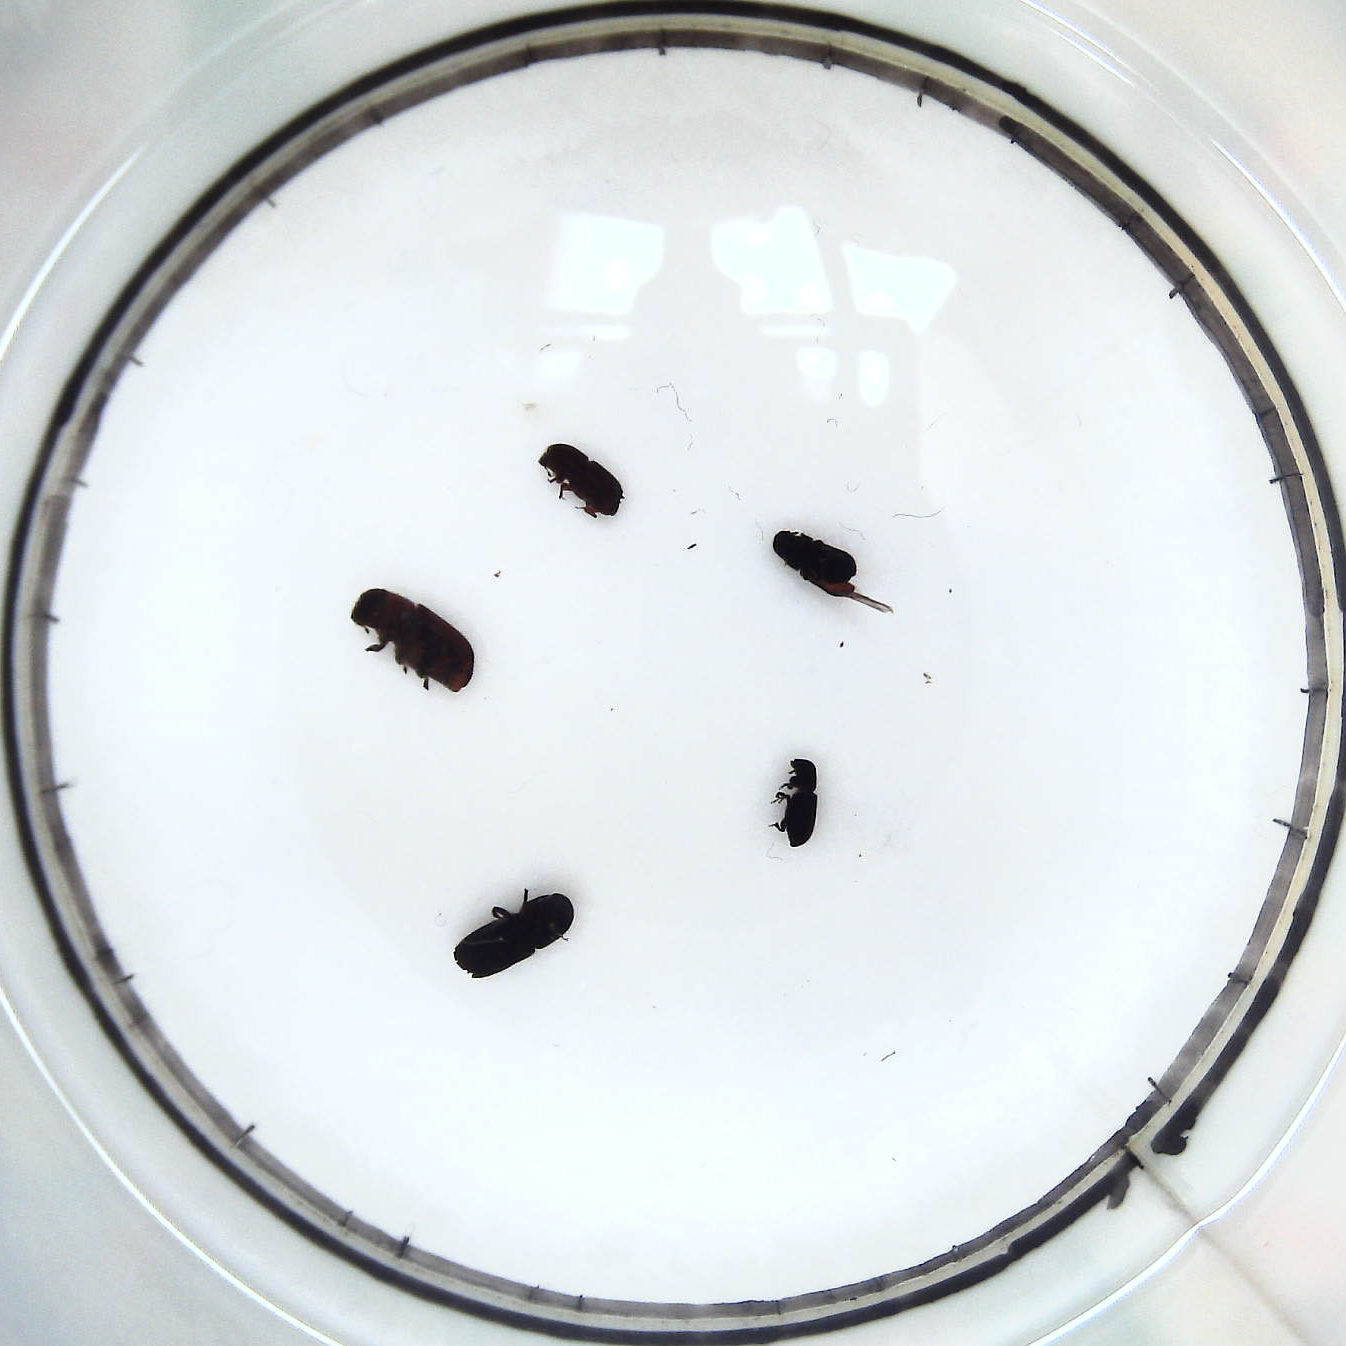Boerner: (451, 887, 578, 985)
Leconte: (344, 583, 483, 700)
armandi: (770, 528, 902, 622)
coleoptera: (768, 759, 827, 850)
linnaeus: (536, 438, 627, 528)
